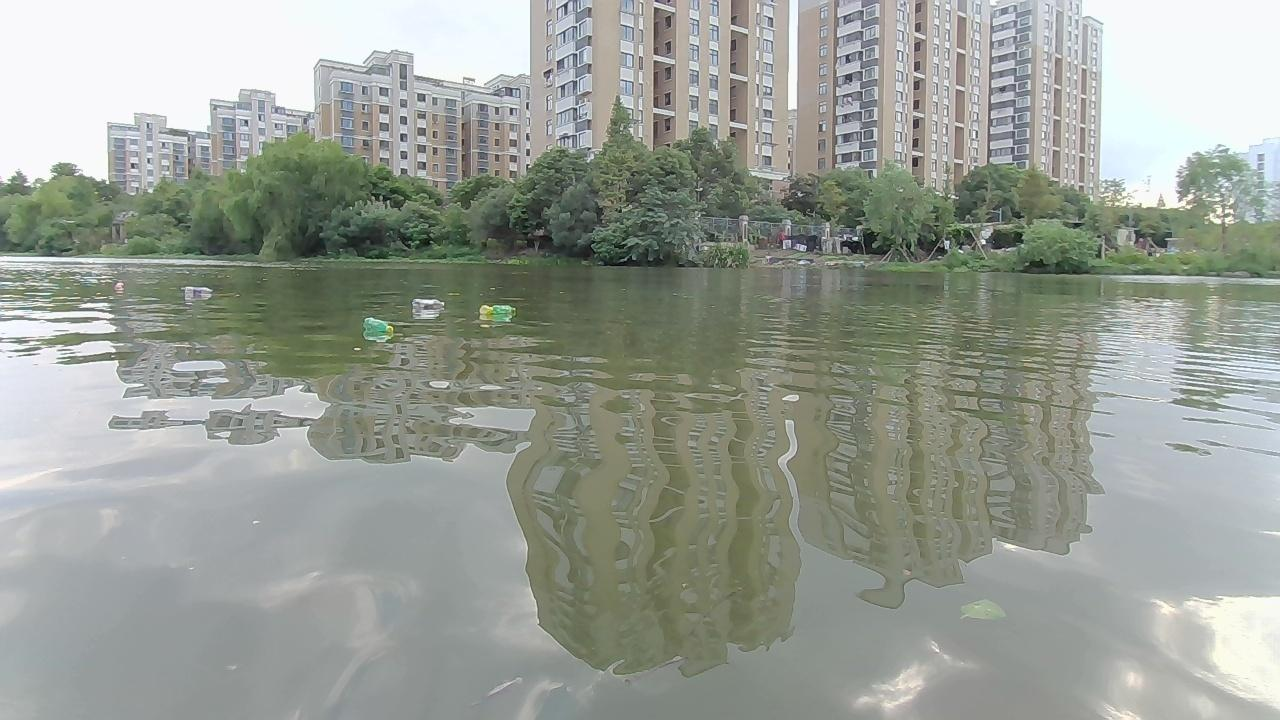bottle: (181, 281, 216, 301), (364, 316, 394, 337), (411, 295, 443, 314), (490, 301, 521, 317), (475, 300, 495, 318), (112, 282, 131, 296)
